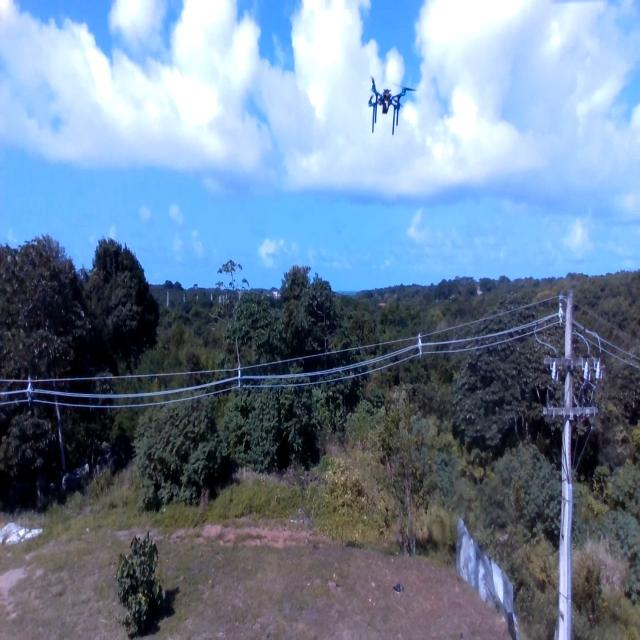-uav-: (364, 64, 418, 156)
